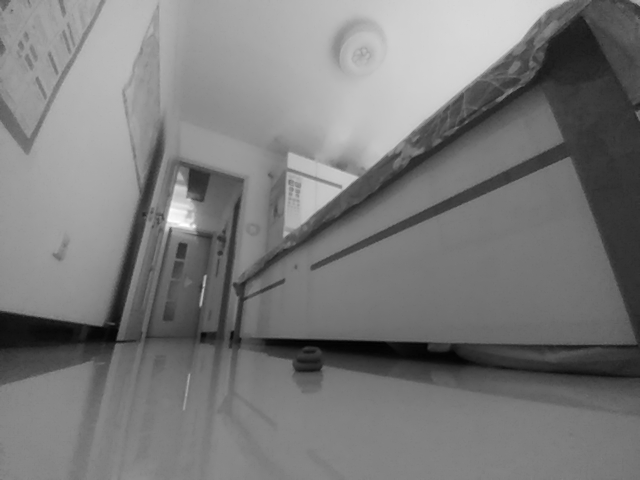pet feces: (292, 345, 322, 372)
